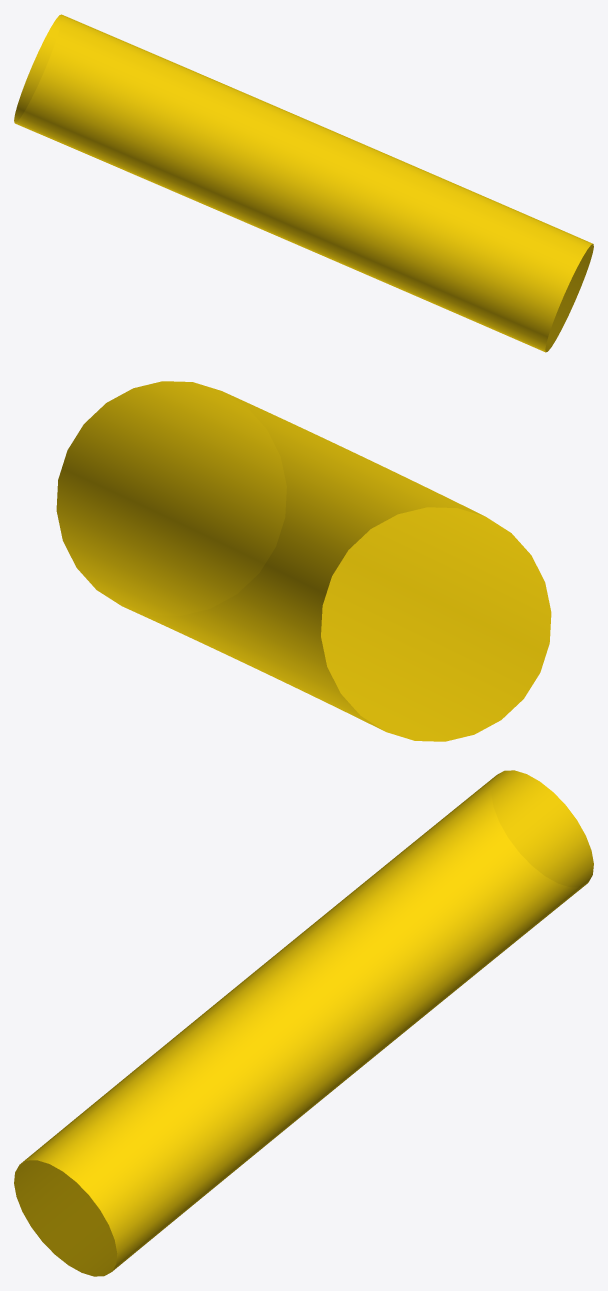
The model's file is Event_421115418_track_28.fbx.
3 renders of one model, top to bottom at view 1: azimuth 30°, elevation 25°; view 2: azimuth 150°, elevation 25°; view 3: azimuth 270°, elevation 25°, orthographic. The views are drawn at different scales.
Parts seen in each view (by area): view 1: Model; view 2: Model; view 3: Model.
Boxes of the visible parts, x1,y1,x2,y2 form: Model: (14, 14, 593, 352); Model: (56, 381, 551, 741); Model: (14, 770, 593, 1276).
Size of the model in its own units: 0.1593 by 0.0991 by 0.1637.
